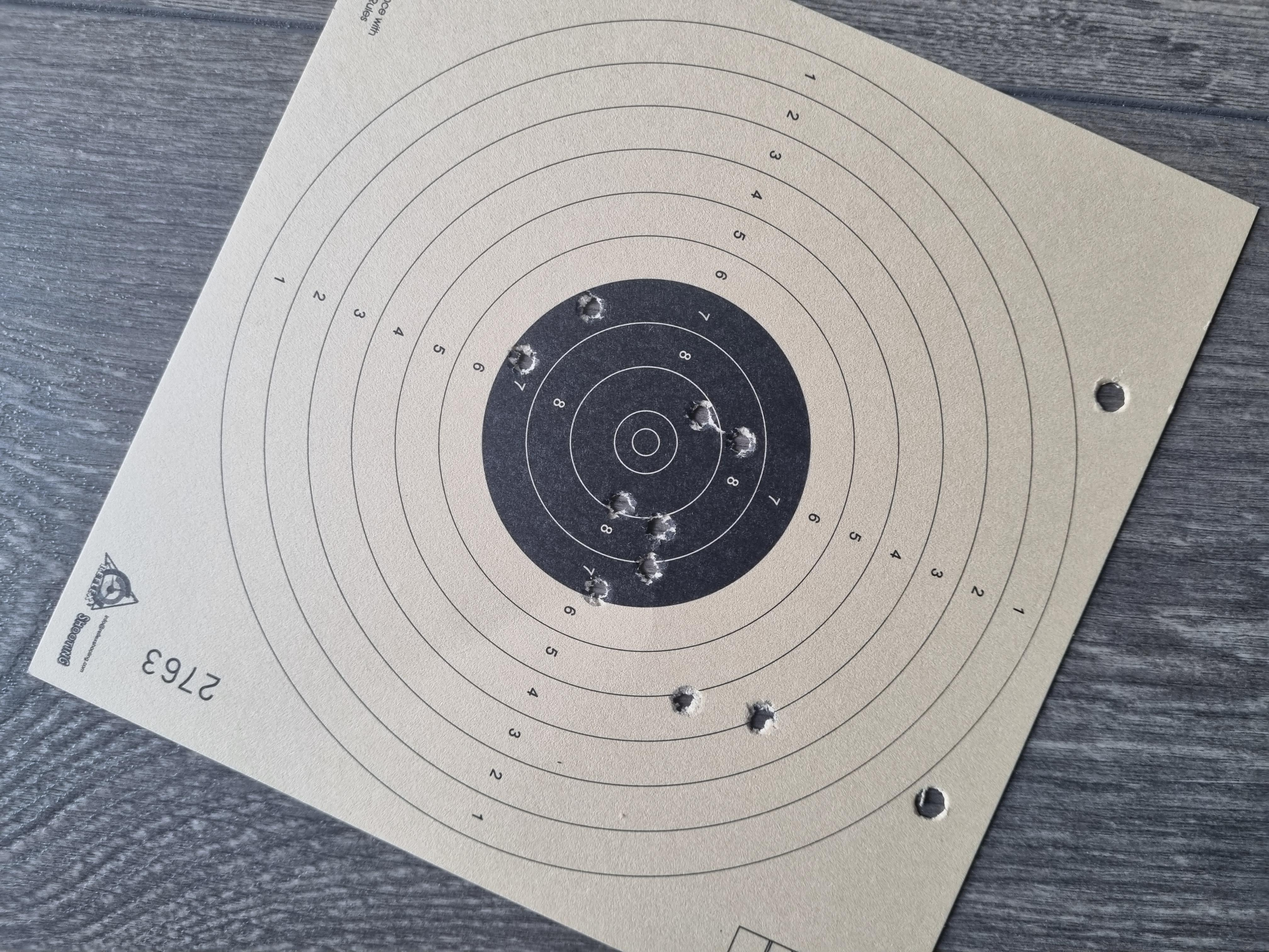hole: (691, 514, 735, 544), (288, 559, 337, 583), (545, 483, 585, 508), (658, 544, 700, 567), (313, 502, 355, 524), (489, 476, 532, 497), (769, 381, 810, 402), (839, 432, 880, 453), (576, 454, 613, 477), (460, 438, 500, 457)
